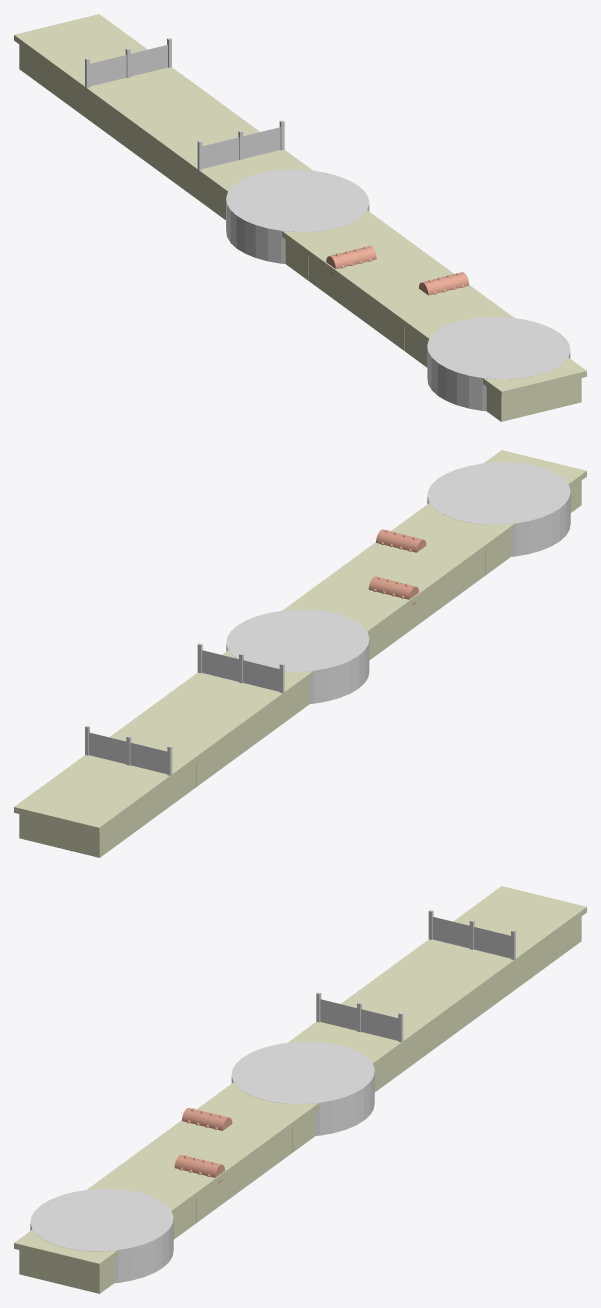
File: Last running trackfbx1.fbx
3 renders of one model, top to bottom at view 1: azimuth 30°, elevation 25°; view 2: azimuth 150°, elevation 25°; view 3: azimuth 330°, elevation 25°, orthographic.
Visible parts, largest first — view 1: Cube.004, Cube.003, Cube.001, Cylinder.001, Cylinder, Cube.015, Cube.002, Cube.005, Cube.010, Cube.014, Cube.009, Cylinder.002 (+1 smaller); view 2: Cube.003, Cube.001, Cube.004, Cylinder.001, Cylinder, Cube.015, Cube.002, Cube.009, Cube.014, Cube.005, Cube.010, Cylinder.002 (+1 smaller); view 3: Cube.004, Cube.003, Cube.001, Cylinder, Cylinder.001, Cube.015, Cube.002, Cube.014, Cube.005, Cube.009, Cube.010, Cylinder.003 (+1 smaller).
Boxes of the visible parts, left/top/right/bottom form: Cube.004: left=303, top=225, right=484, bottom=350; Cube.003: left=14, top=14, right=195, bottom=139; Cube.001: left=110, top=84, right=291, bottom=209; Cylinder.001: left=427, top=317, right=570, bottom=411; Cylinder: left=226, top=169, right=369, bottom=263; Cube.015: left=399, top=296, right=586, bottom=421; Cube.002: left=206, top=155, right=387, bottom=280; Cube.005: left=130, top=44, right=167, bottom=76; Cube.010: left=202, top=137, right=239, bottom=168; Cube.014: left=243, top=127, right=280, bottom=158; Cube.009: left=90, top=55, right=126, bottom=86; Cylinder.002: left=326, top=246, right=376, bottom=274; Cube.003: left=14, top=736, right=195, bottom=857; Cube.001: left=111, top=672, right=297, bottom=787; Cube.004: left=303, top=524, right=490, bottom=645; Cylinder.001: left=427, top=462, right=570, bottom=556; Cylinder: left=226, top=609, right=369, bottom=703; Cube.015: left=400, top=450, right=586, bottom=575; Cube.002: left=222, top=595, right=393, bottom=716; Cube.009: left=130, top=742, right=167, bottom=773; Cube.014: left=201, top=650, right=238, bottom=681; Cube.005: left=89, top=732, right=126, bottom=763; Cube.010: left=243, top=660, right=279, bottom=691; Cylinder.002: left=368, top=576, right=418, bottom=605; Cube.004: left=116, top=1097, right=297, bottom=1222; Cube.003: left=405, top=886, right=586, bottom=1011; Cube.001: left=309, top=956, right=490, bottom=1081; Cylinder: left=231, top=1041, right=374, bottom=1135; Cylinder.001: left=30, top=1189, right=173, bottom=1283; Cube.015: left=14, top=1168, right=201, bottom=1293; Cube.002: left=213, top=1027, right=394, bottom=1152; Cube.014: left=361, top=1009, right=398, bottom=1040; Cube.005: left=473, top=926, right=510, bottom=958; Cube.009: left=432, top=916, right=469, bottom=948; Cube.010: left=320, top=999, right=356, bottom=1030; Cylinder.003: left=174, top=1155, right=224, bottom=1183.
Bounding box in the file's own units: 734 × 351 × 5082.
